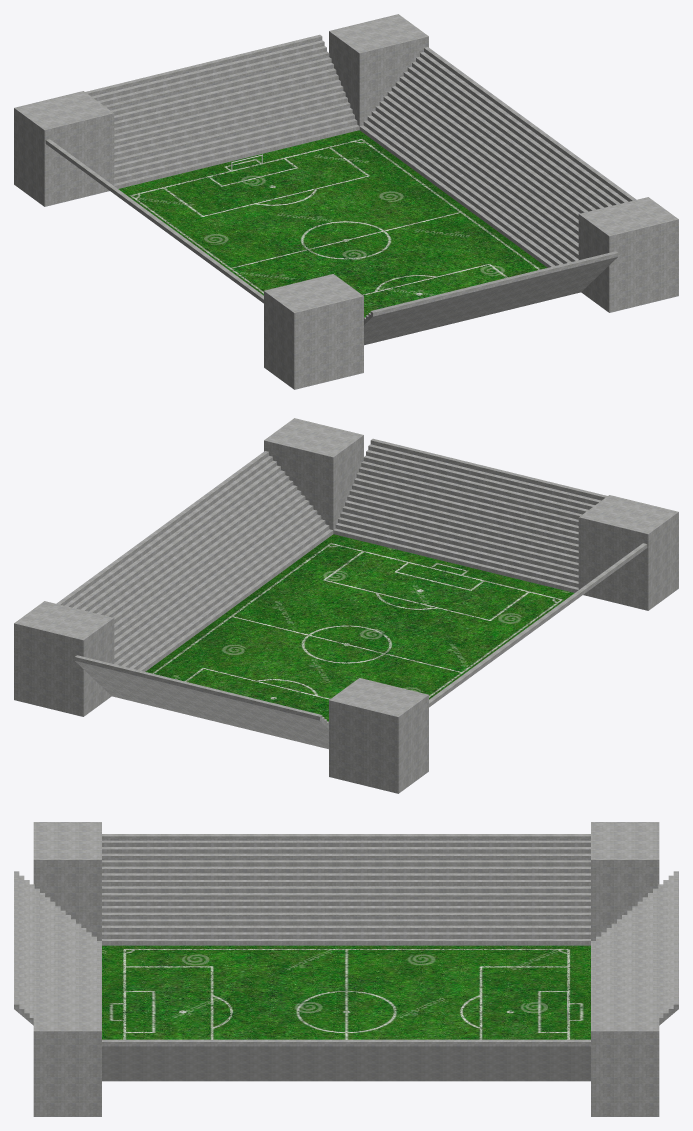
3 views of the same model, one above another, from view 1: azimuth 30°, elevation 25°; view 2: azimuth 150°, elevation 25°; view 3: azimuth 270°, elevation 25° (orthographic). The views are drawn at different scales.
Visible parts, largest first — view 1: Gradas, Surface; view 2: Gradas, Surface; view 3: Gradas, Surface.
Part boxes in pixels (box(x1,y1,x2,y2)): Gradas: box(14, 14, 678, 389); Surface: box(118, 130, 547, 317); Gradas: box(14, 418, 678, 793); Surface: box(145, 534, 574, 721); Gradas: box(14, 822, 678, 1116); Surface: box(102, 945, 590, 1039).
Bounding box in the file's own units: 116 × 22.06 × 155.
Materials: 3 (3 with a texture image).
